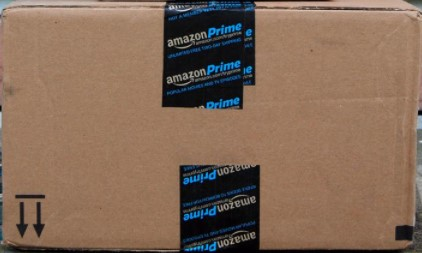stock: (1, 1, 420, 249)
